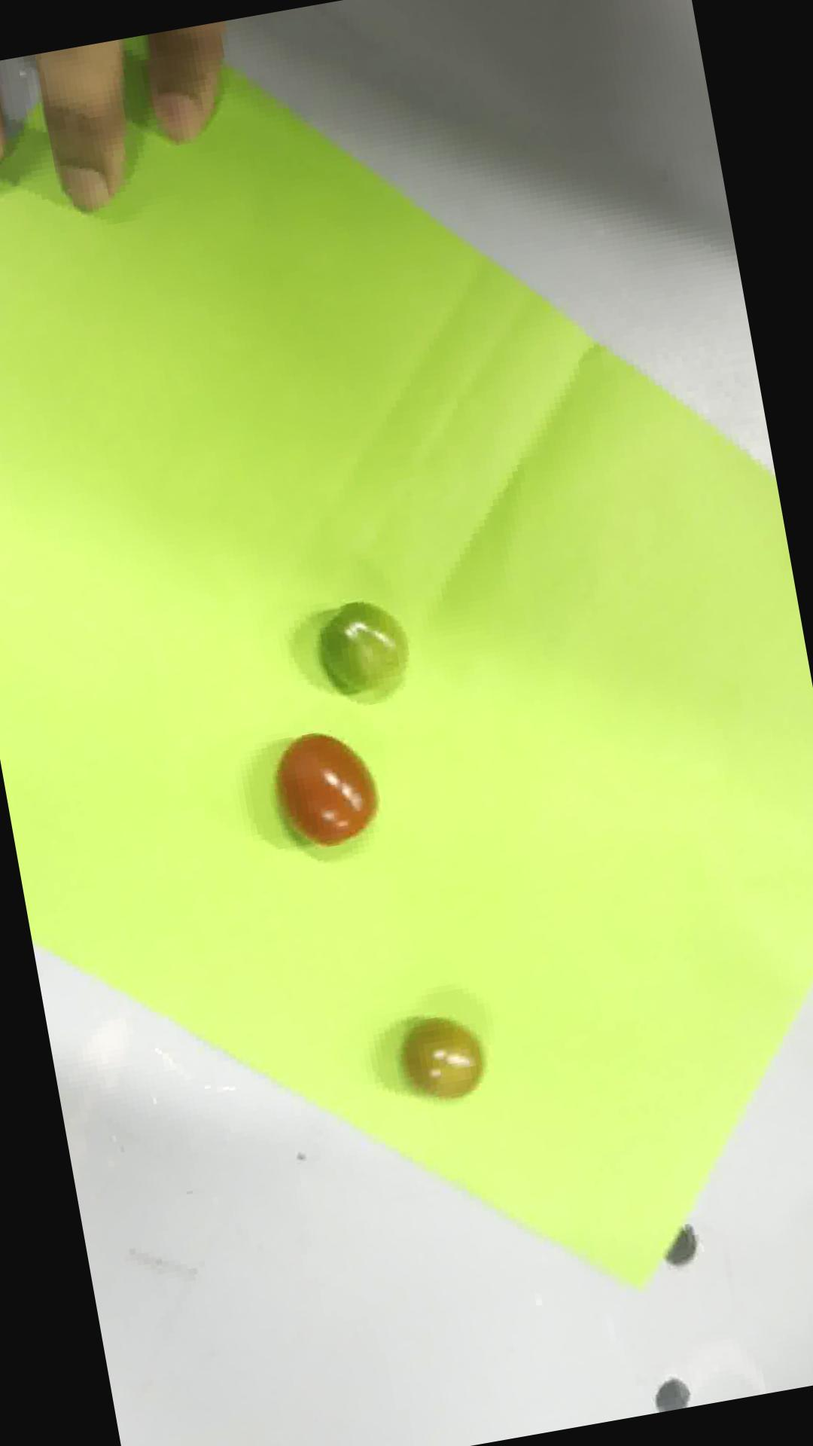green_cherry_tomato: (317, 601, 409, 700)
red_cherry_tomato: (276, 734, 377, 845)
yellow_cherry_tomato: (402, 1018, 483, 1098)
